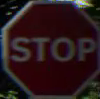Stop: (6, 3, 92, 93)
